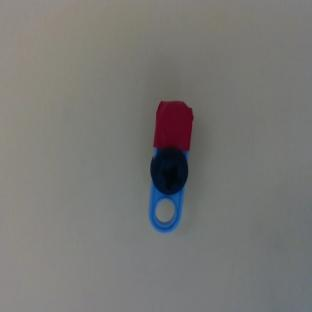part_1_good: (144, 99, 195, 234)
